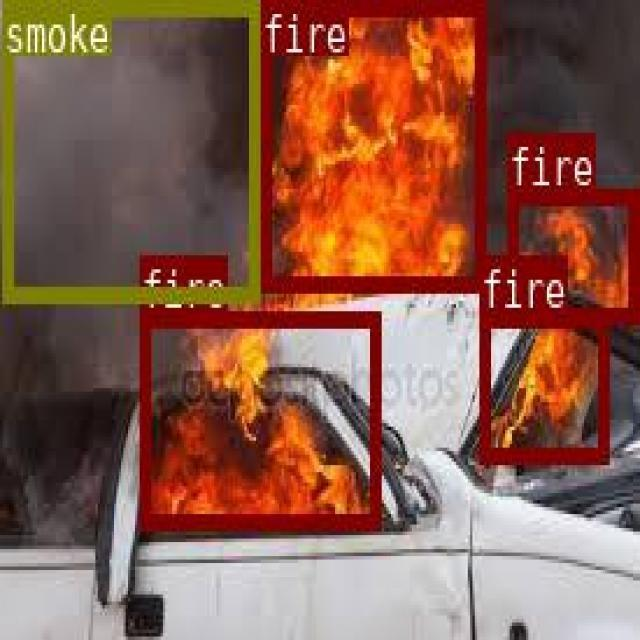fire: (259, 0, 482, 290), (139, 311, 378, 528), (478, 308, 605, 458), (506, 188, 636, 319)
smoke: (0, 0, 258, 301)
